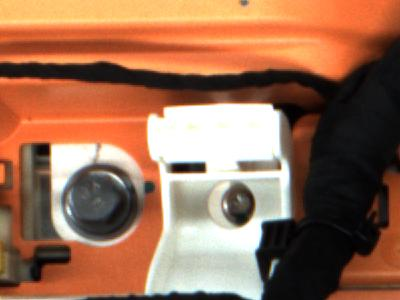nut_b: (59, 158, 140, 243)
